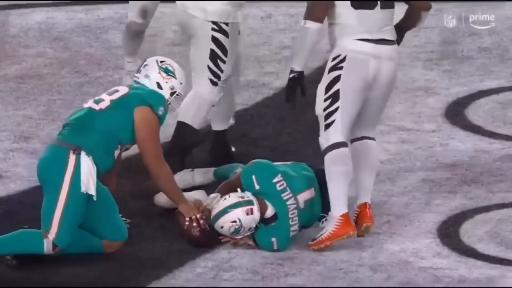Helmet: (133, 56, 186, 107), (210, 189, 261, 238)
Jersey: (55, 84, 168, 175), (240, 160, 325, 251), (327, 1, 396, 40)
Player: (0, 56, 199, 263), (293, 0, 431, 250), (175, 159, 355, 251), (164, 0, 245, 173), (122, 2, 160, 84)
